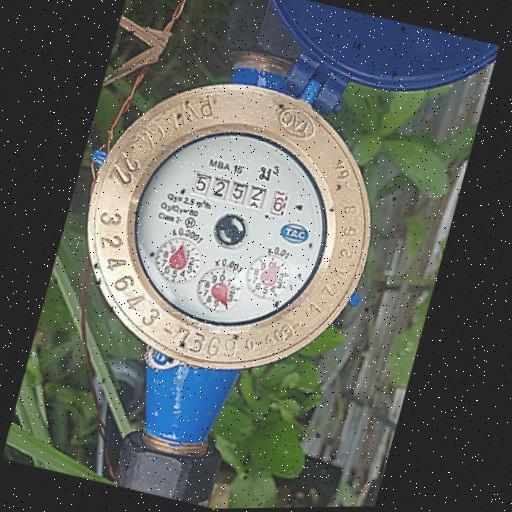2: (210, 177, 230, 201), (248, 186, 268, 210)
5: (192, 173, 212, 197), (229, 181, 248, 206)
6: (270, 190, 288, 215)
border_water_meter_number: (189, 169, 291, 219)
